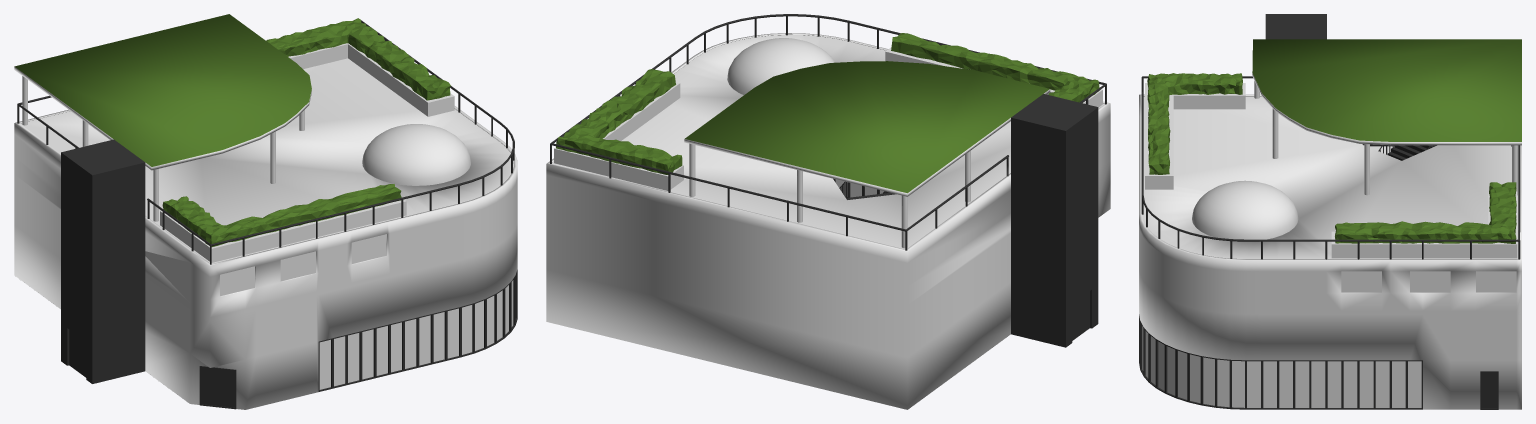
File: Haus_der_Transformation.fbx
3 renders of one model, left to right at view 1: azimuth 30°, elevation 25°; view 2: azimuth 150°, elevation 25°; view 3: azimuth 270°, elevation 25°, orthographic. The views are drawn at different scales.
Parts seen in each view (by area): view 1: model, windows; view 2: model, windows; view 3: model, windows.
Part boxes in pixels (x1,y1,x2,y2): model: [14, 14, 517, 409]; windows: [220, 124, 513, 389]; model: [546, 14, 1110, 409]; windows: [727, 38, 884, 197]; model: [1139, 14, 1521, 409]; windows: [1142, 180, 1516, 407].
Size of the model in its own units: 2456 by 1220 by 2072.
